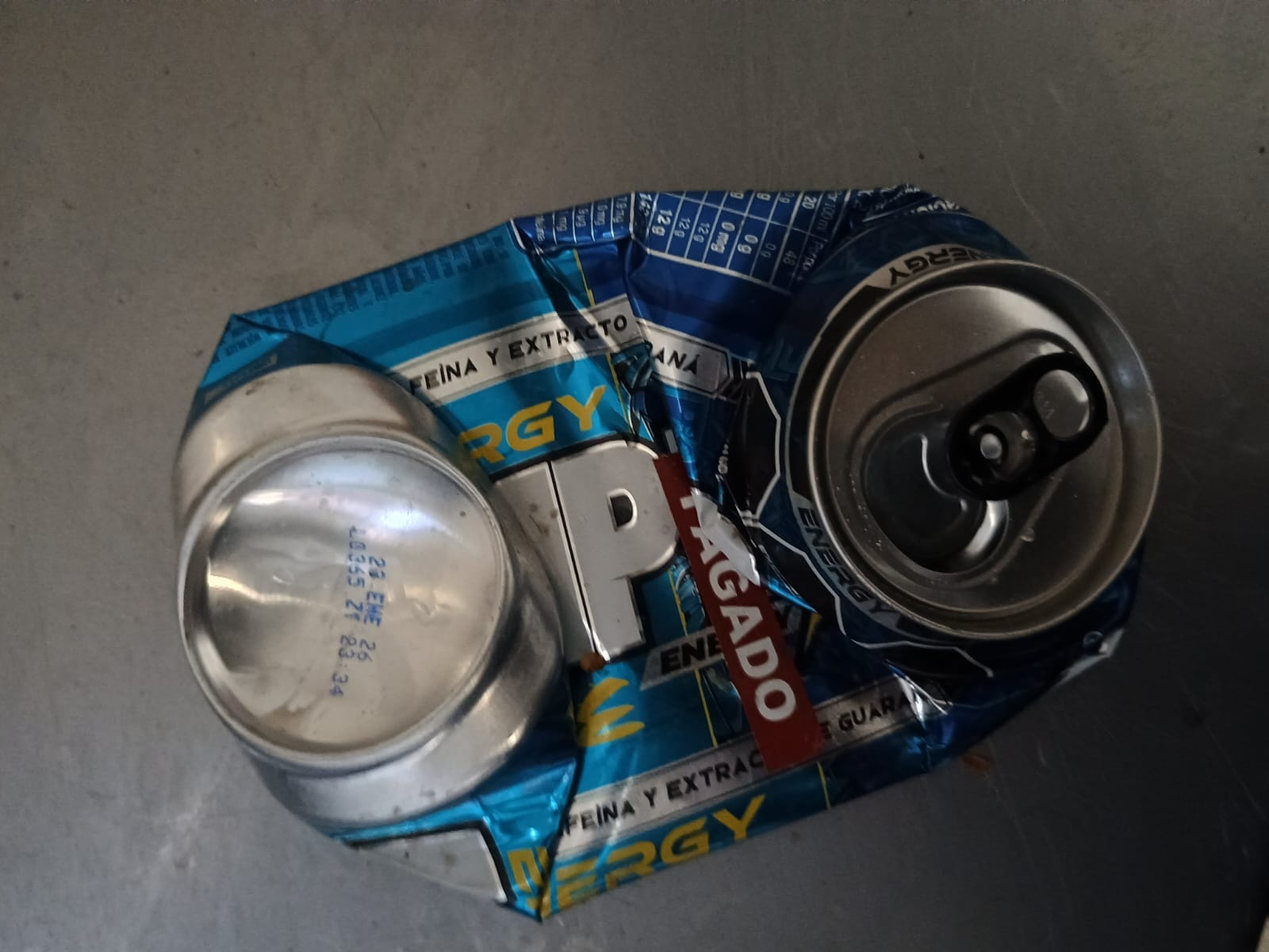Metal: (178, 183, 1164, 925)
